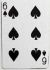six: (1, 1, 48, 67)
